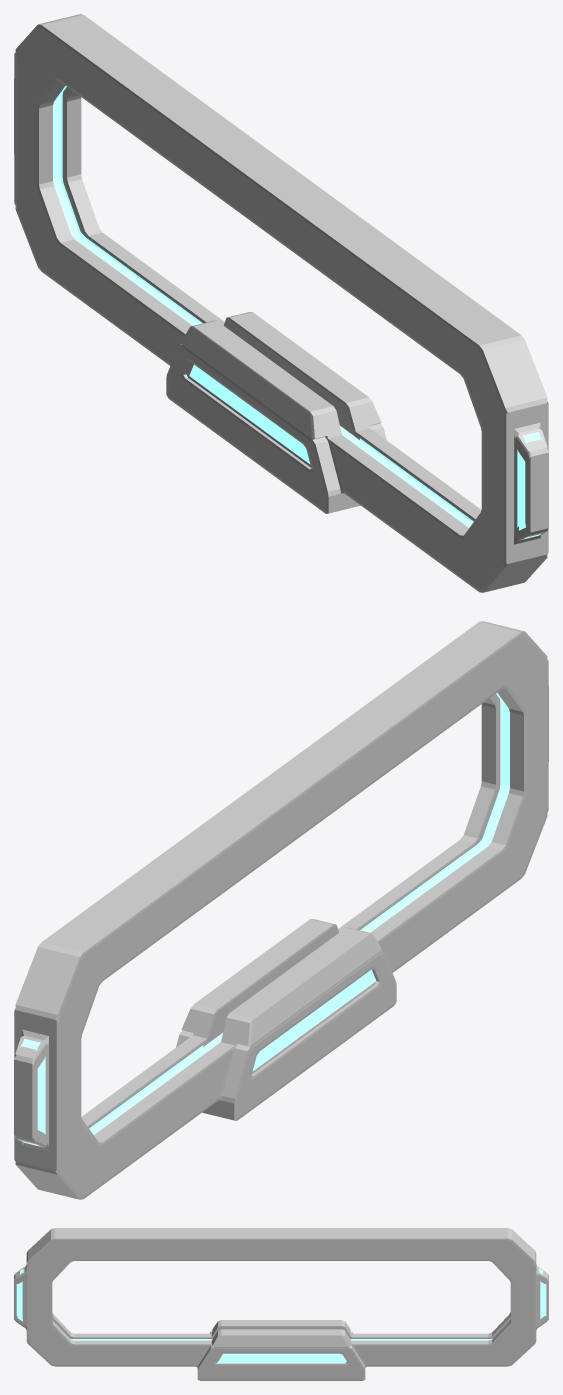
Rendered from Barrière.fbx.
3 views of the same model, one above another, from view 1: azimuth 30°, elevation 25°; view 2: azimuth 150°, elevation 25°; view 3: azimuth 270°, elevation 25° (orthographic). The views are drawn at different scales.
Visible parts, largest first — view 1: BarrièreBevel; view 2: BarrièreBevel; view 3: BarrièreBevel.
Part boxes in pixels (x1=…): BarrièreBevel: x1=14, y1=14, x2=548, y2=592; BarrièreBevel: x1=14, y1=621, x2=548, y2=1199; BarrièreBevel: x1=14, y1=1228, x2=548, y2=1380.
Bounding box in the file's own units: 32.17 × 120 × 420.
